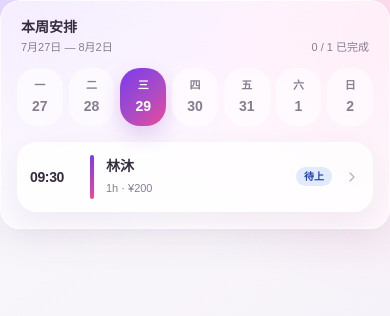
Test: ScheduleBoard mobile agenda › shows a clear empty state for a date without lessons
The image size is (390, 316).
Click the button "四 30". click: coordinates (195, 96)
box: x1=172 y1=68 x2=218 y2=126
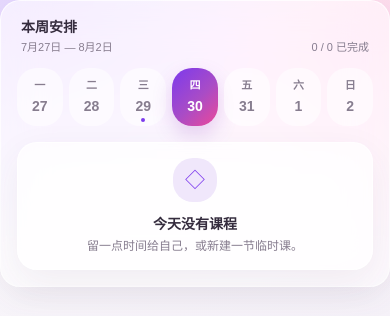
Expected: the element with test id "mobile-course-list" shows "今天没有课程", x1=153 y1=216 x2=237 y2=232
